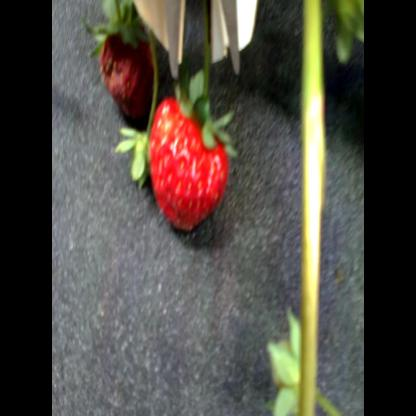ripe: (146, 92, 238, 226), (102, 13, 166, 124)
